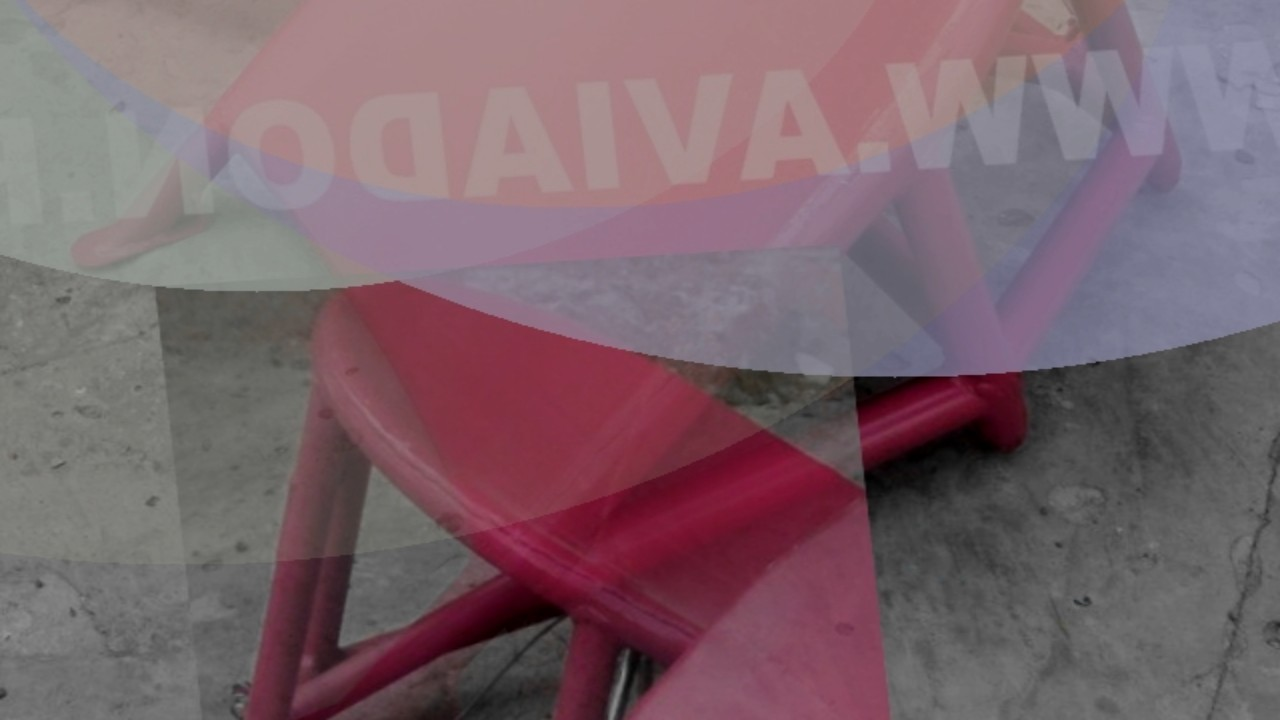chock: (5, 0, 1249, 720), (155, 244, 900, 720)
